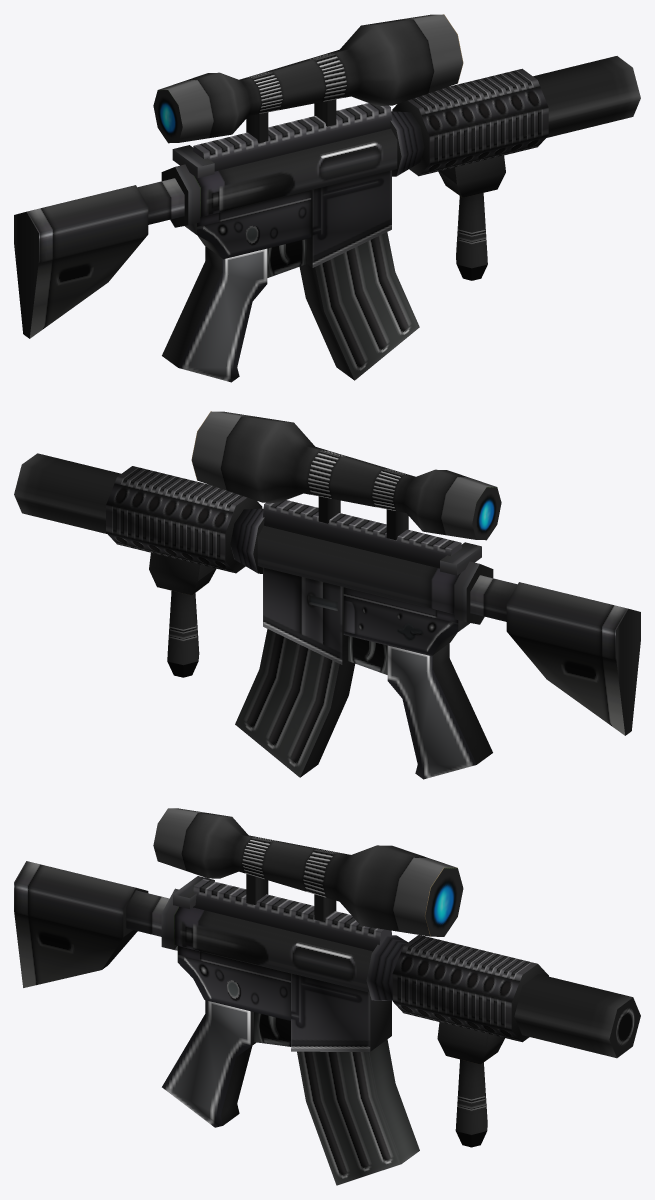
Rendered from rifle m4a1 lv4.FBX.
3 views of the same model, one above another, from view 1: azimuth 30°, elevation 25°; view 2: azimuth 150°, elevation 25°; view 3: azimuth 330°, elevation 25° (orthographic).
Visible parts, largest first — view 1: Object063; view 2: Object063; view 3: Object063.
Part boxes in pixels (box(x1,y1,x2,y2)): Object063: box(14, 14, 640, 382); Object063: box(14, 411, 640, 779); Object063: box(14, 808, 640, 1185).
Bounding box in the file's own units: 76.13 × 41.46 × 9.81.
